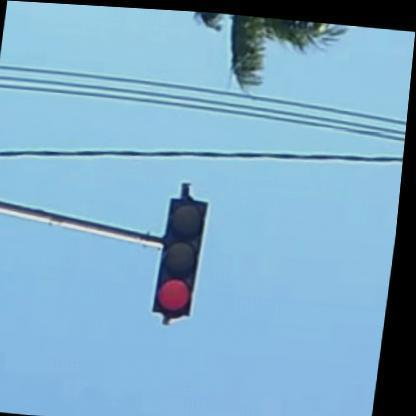red: (157, 195, 214, 316)
